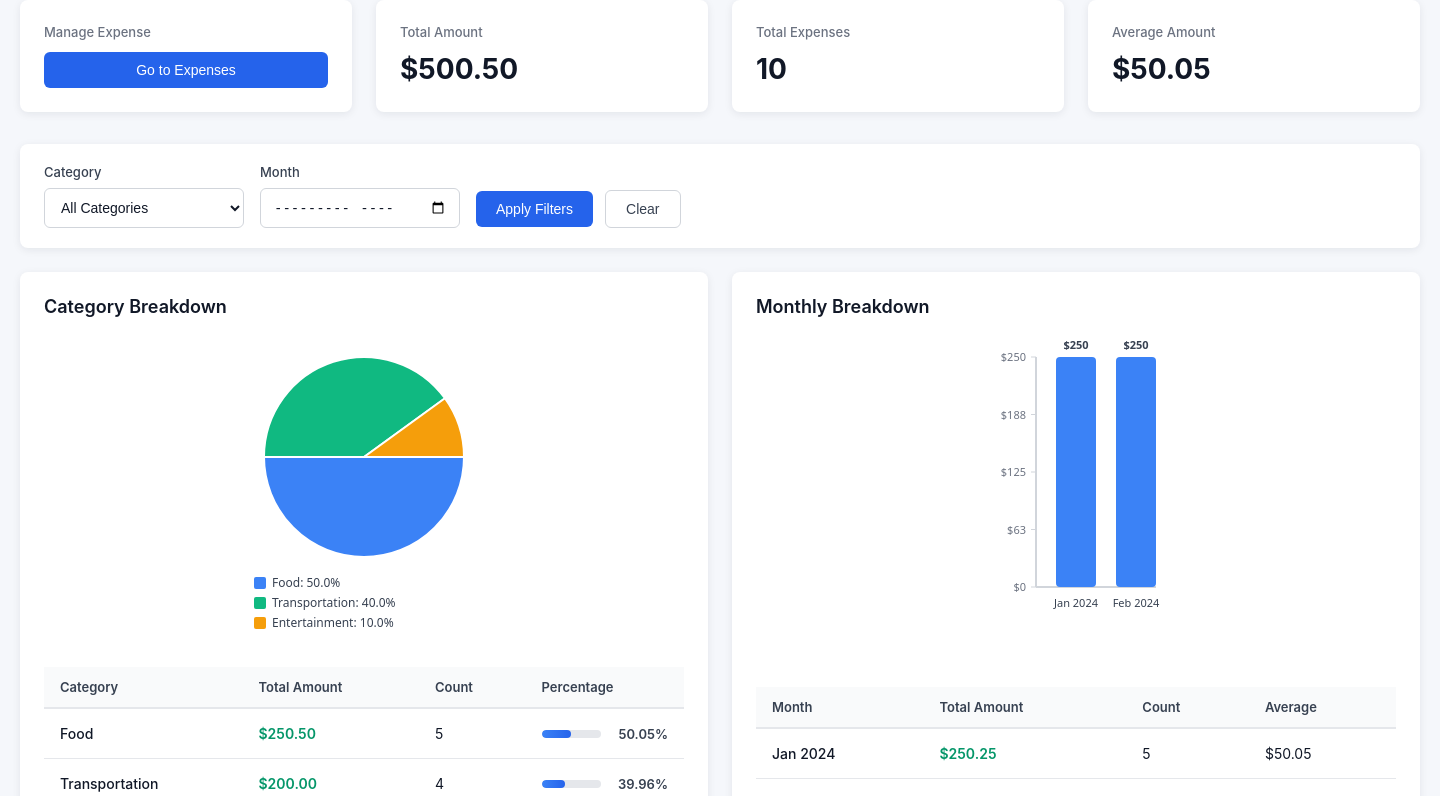
Test: UserExpenseReport Component › Filter Section › should clear filters when Clear button clicked
This screenshot has width=1440, height=796.
Select "Food" in the dropdown showing "All Categories" at (144, 208), box [44,188,244,228]
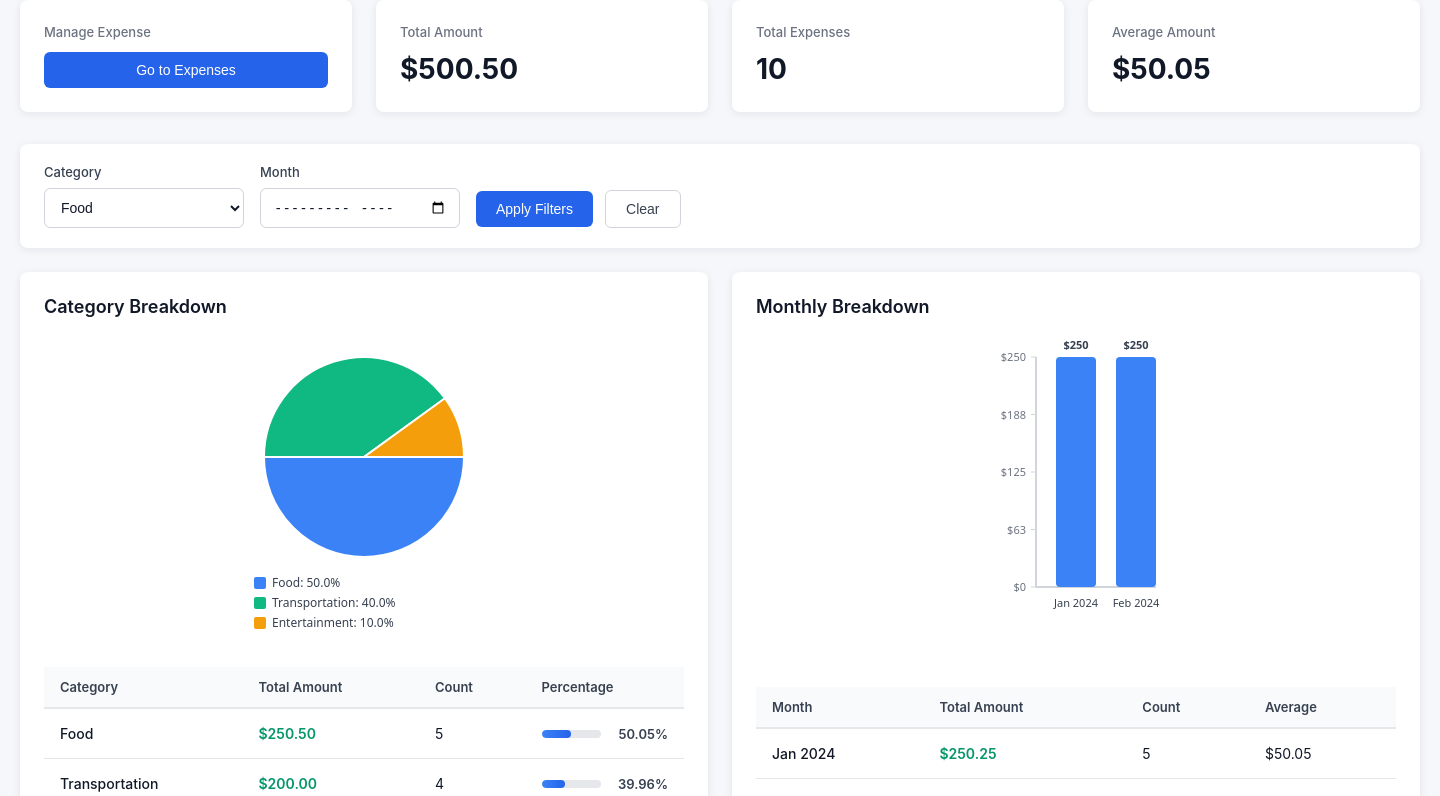
Click the button "Clear" at (643, 209), box [605,190,680,228]
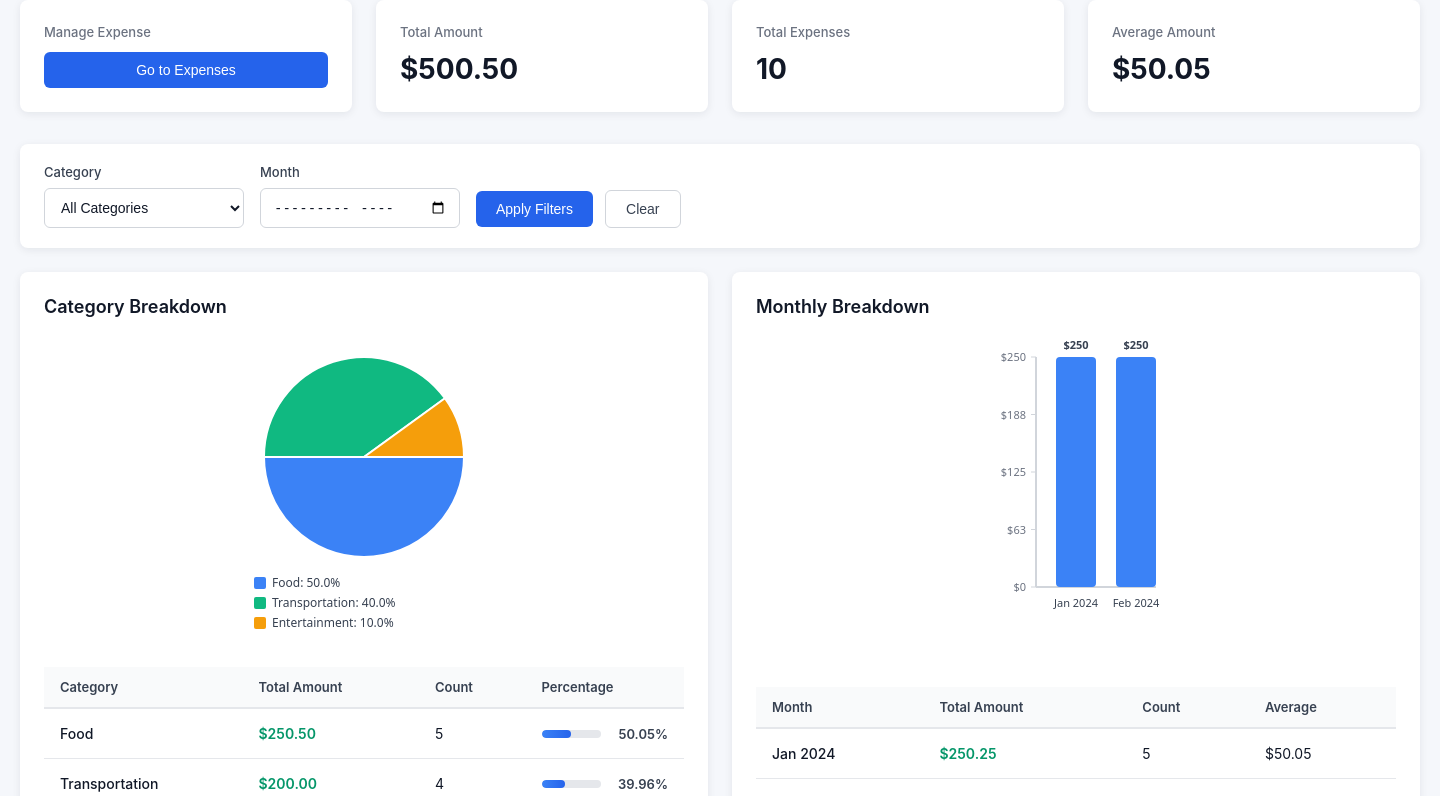
Check: the dropdown showing "All Categories" shows "All Categories", box [44,188,244,228]
